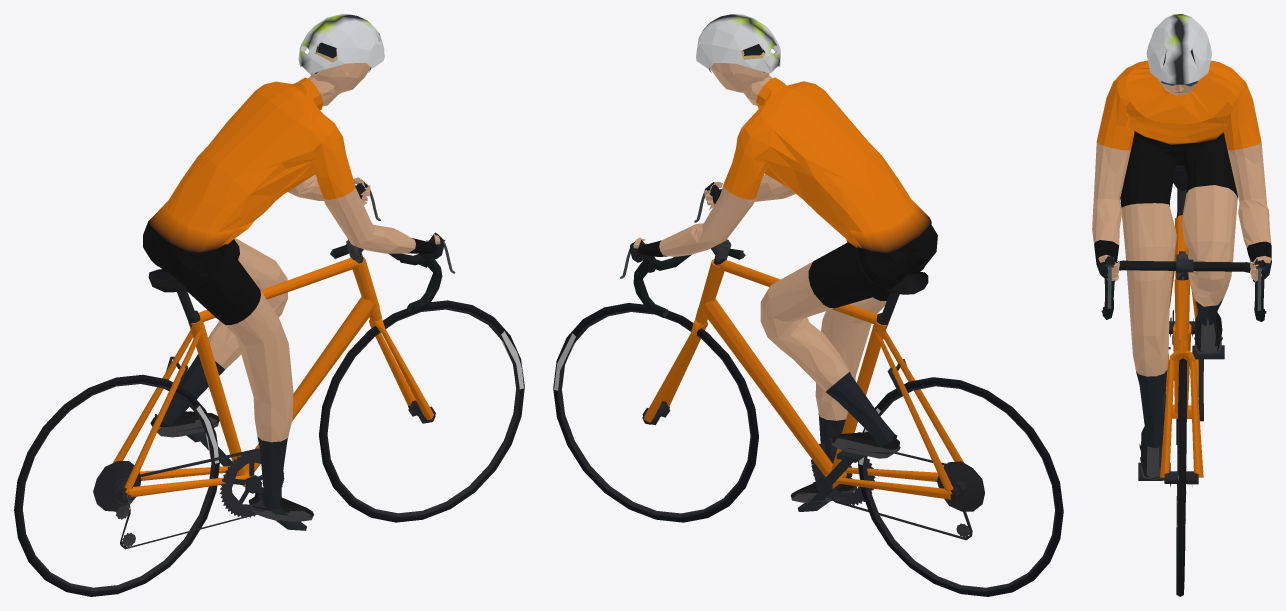
File: rider-lod2.glb
The picture shows the model from 3 angles, left to right: view 1: azimuth 30°, elevation 25°; view 2: azimuth 150°, elevation 25°; view 3: azimuth 270°, elevation 25°; orthographic projection.
Visible parts, largest first — view 1: P79_LOD2; view 2: P79_LOD2; view 3: P79_LOD2.
Part boxes in pixels (box(x1,y1,x2,y2)): P79_LOD2: box(14, 14, 524, 596); P79_LOD2: box(553, 14, 1063, 596); P79_LOD2: box(1092, 14, 1271, 596).
Size of the model in its own units: 1.67 by 1.63 by 0.5041.
